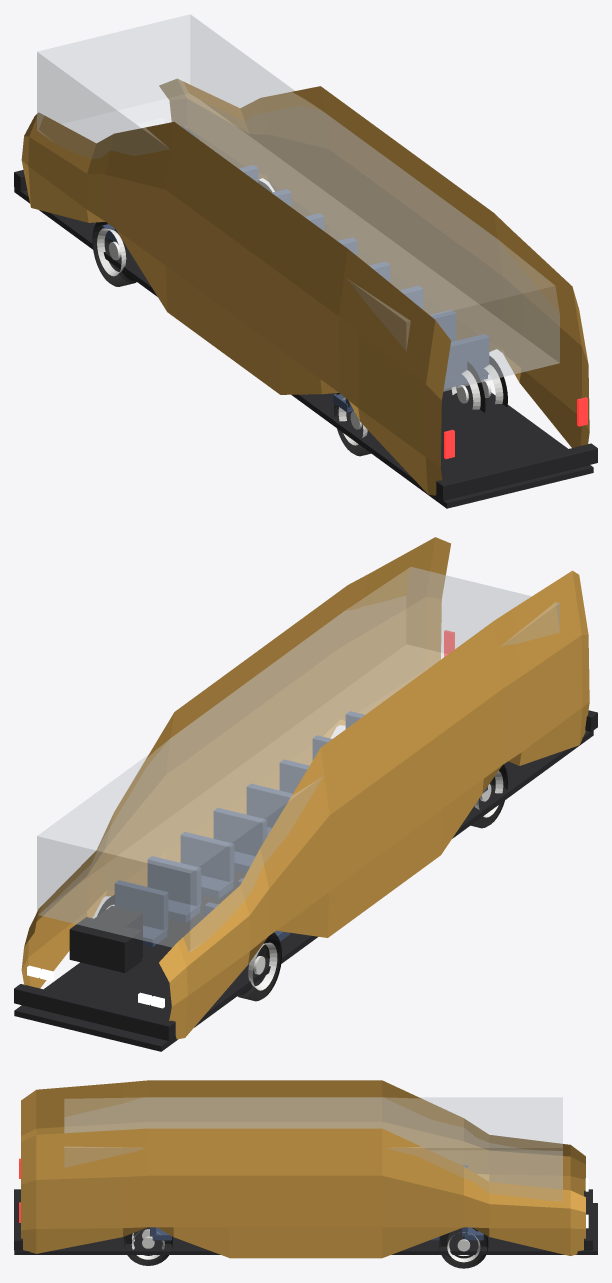
The model's file is Car_GMC_RTS_1970s_Complete.glb.
3 renders of one model, top to bottom at view 1: azimuth 30°, elevation 25°; view 2: azimuth 150°, elevation 25°; view 3: azimuth 270°, elevation 25°, orthographic. The views are drawn at different scales.
Visible parts, largest first — view 1: BODY_GMC_RTS_MainShell, GLASS_GMC_RTS, CHASSIS_BellyPan, INTERIOR_PassengerSeats, TRIM_GMC_RTS_Bumpers, WHEEL_FR_Rim, WHEEL_FR_Tire; view 2: BODY_GMC_RTS_MainShell, GLASS_GMC_RTS, INTERIOR_PassengerSeats, CHASSIS_BellyPan, INTERIOR_DriverCab, TRIM_GMC_RTS_Bumpers, WHEEL_FR_Tire, WHEEL_FR_Rim; view 3: BODY_GMC_RTS_MainShell, GLASS_GMC_RTS, CHASSIS_BellyPan, TRIM_GMC_RTS_Bumpers, WHEEL_FL_Tire, INTERIOR_PassengerSeats, WHEEL_RL_Out_Tire, WHEEL_FL_Rim, WHEEL_RL_Out_Rim.
Part boxes in pixels (x1=…): BODY_GMC_RTS_MainShell: x1=21, y1=78, x2=589, y2=495; GLASS_GMC_RTS: x1=37, y1=14, x2=559, y2=391; CHASSIS_BellyPan: x1=14, y1=187, x2=593, y2=508; INTERIOR_PassengerSeats: x1=102, y1=165, x2=489, y2=412; TRIM_GMC_RTS_Bumpers: x1=14, y1=170, x2=597, y2=500; WHEEL_FR_Rim: x1=97, y1=228, x2=126, y2=276; WHEEL_FR_Tire: x1=92, y1=222, x2=136, y2=286; BODY_GMC_RTS_MainShell: x1=21, y1=537, x2=589, y2=1039; GLASS_GMC_RTS: x1=37, y1=567, x2=559, y2=951; INTERIOR_PassengerSeats: x1=114, y1=711, x2=487, y2=965; CHASSIS_BellyPan: x1=14, y1=730, x2=593, y2=1051; INTERIOR_DriverCab: x1=69, y1=906, x2=142, y2=972; TRIM_GMC_RTS_Bumpers: x1=14, y1=710, x2=597, y2=1040; WHEEL_FR_Tire: x1=237, y1=932, x2=281, y2=1001; WHEEL_FR_Rim: x1=248, y1=942, x2=277, y2=990; BODY_GMC_RTS_MainShell: x1=21, y1=1080, x2=585, y2=1258; GLASS_GMC_RTS: x1=64, y1=1097, x2=562, y2=1200; CHASSIS_BellyPan: x1=14, y1=1203, x2=597, y2=1254; TRIM_GMC_RTS_Bumpers: x1=14, y1=1189, x2=592, y2=1250; WHEEL_FL_Tire: x1=439, y1=1227, x2=488, y2=1268; INTERIOR_PassengerSeats: x1=150, y1=1165, x2=483, y2=1240; WHEEL_RL_Out_Tire: x1=124, y1=1233, x2=172, y2=1265; WHEEL_FL_Rim: x1=447, y1=1232, x2=480, y2=1262; WHEEL_RL_Out_Rim: x1=131, y1=1229, x2=164, y2=1259.
Bounding box in the file's own units: 2.51 × 3.02 × 11.47.
